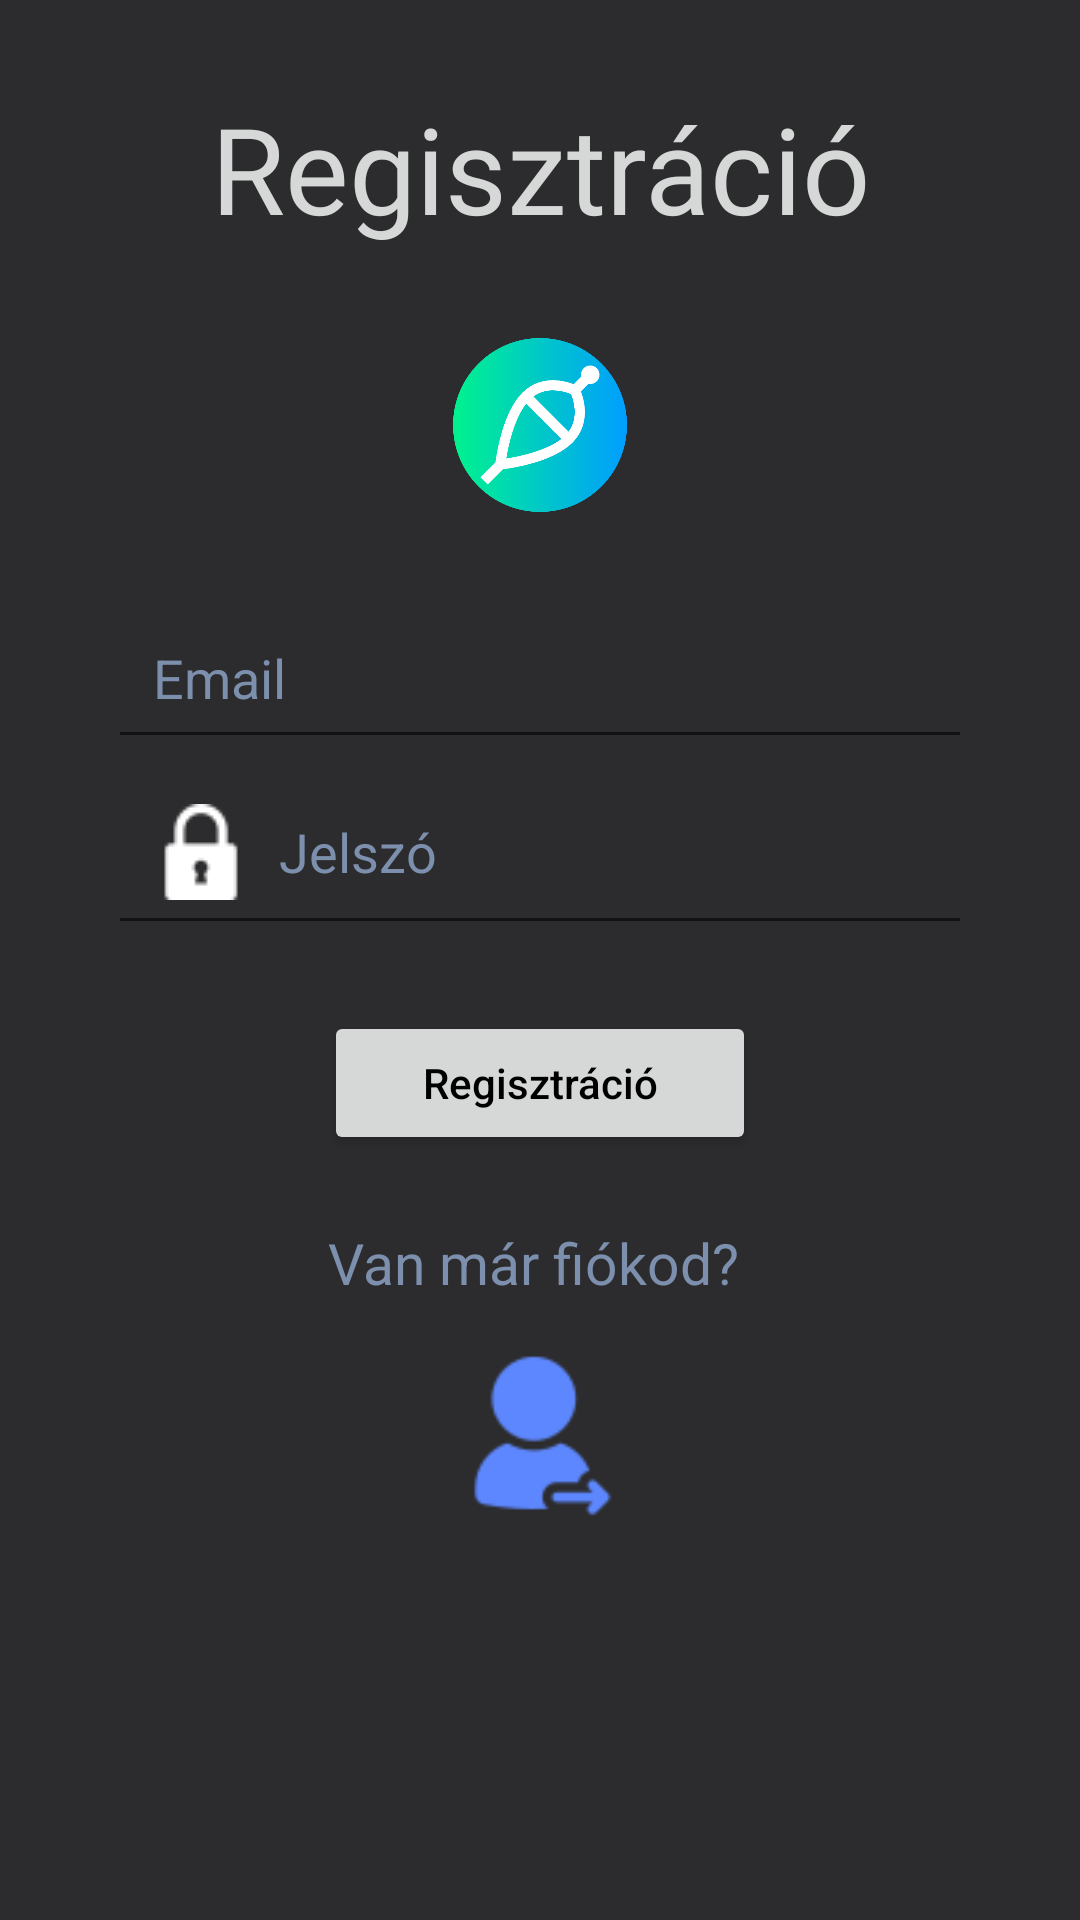

Screen size 1080*1920. Icon name, then its center in pixels as point (x, y):
login: point (542, 1435)
